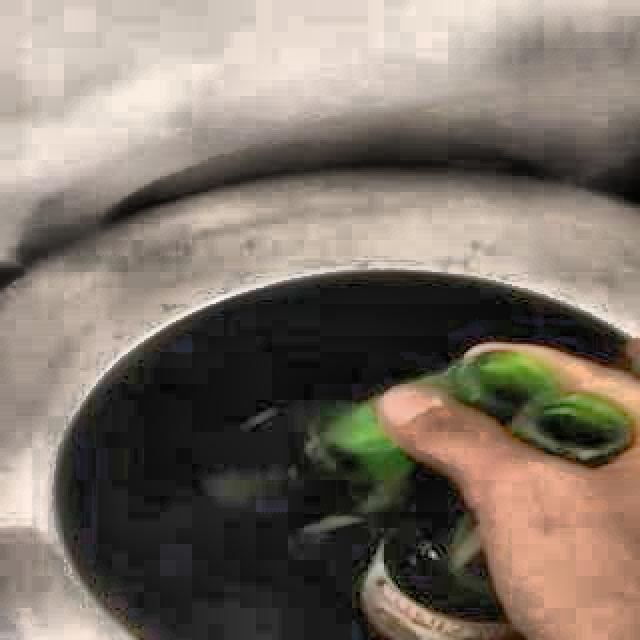glass: (205, 398, 520, 640), (408, 348, 637, 468)
